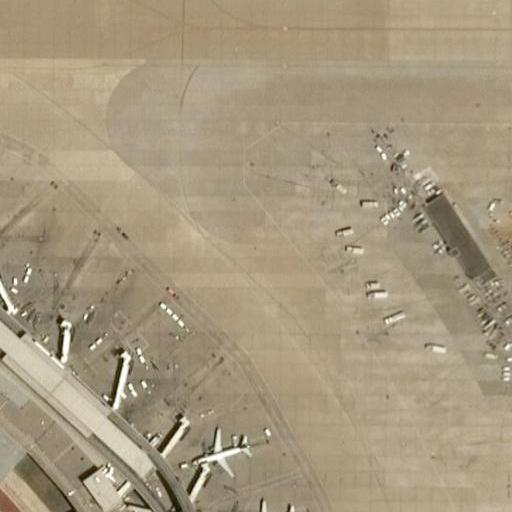Aircraft: (189, 425, 253, 481), (232, 493, 304, 512)
